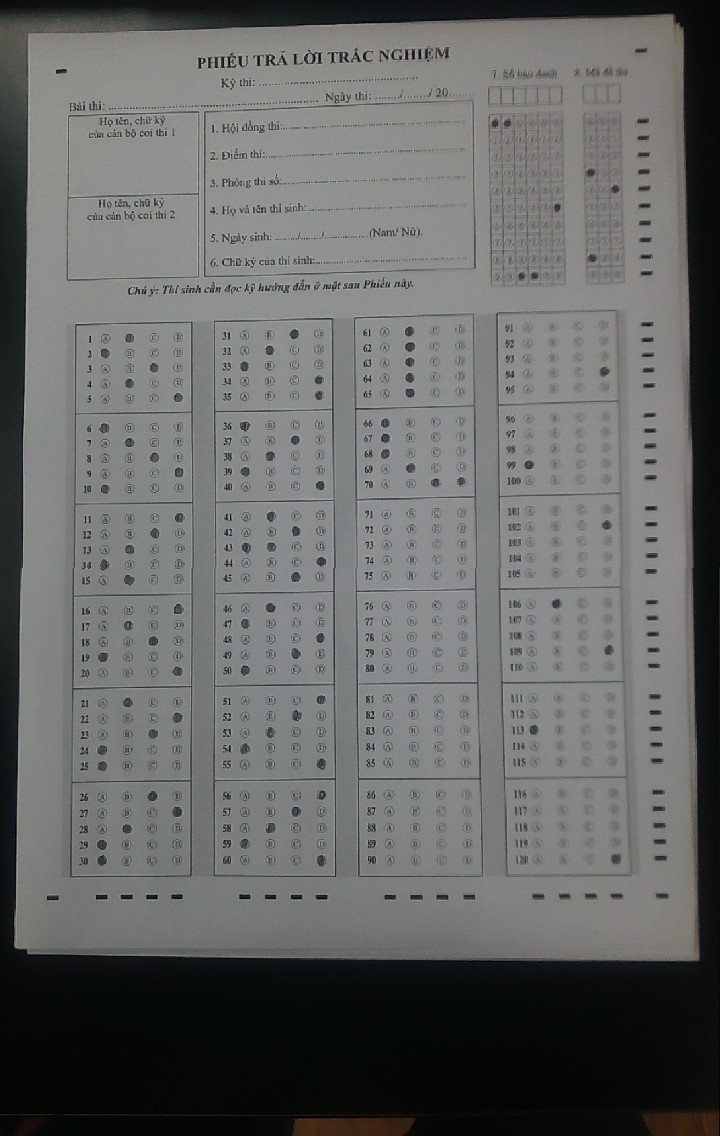bot_left: (1, 923, 40, 967)
bot_right: (667, 935, 710, 982)
top_left: (11, 10, 55, 59)
top_right: (650, 1, 692, 43)
